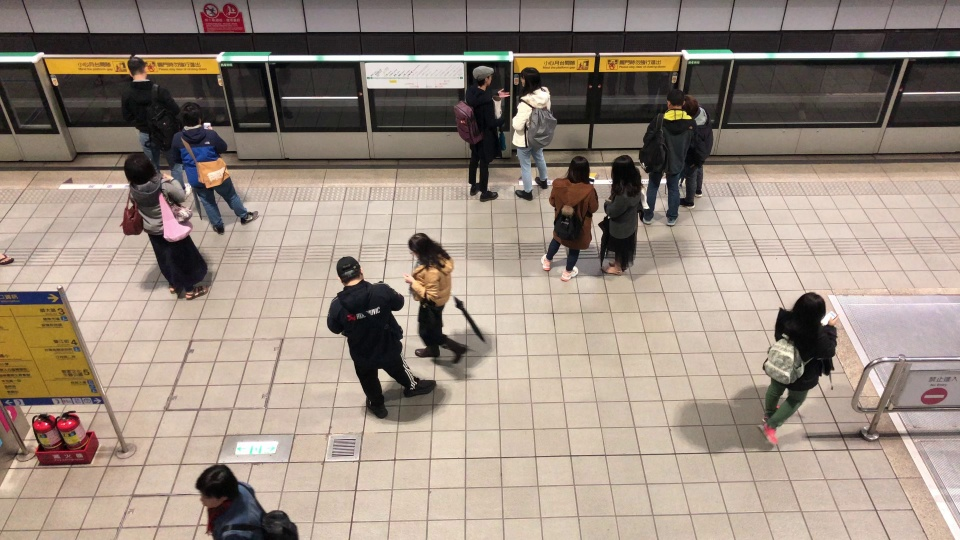person_head: (193, 465, 240, 510), (409, 232, 450, 269), (789, 292, 825, 328), (610, 156, 642, 196), (123, 152, 158, 186), (519, 67, 546, 101), (335, 256, 363, 286), (564, 155, 590, 185), (180, 101, 202, 129), (127, 55, 147, 81), (473, 65, 492, 86), (667, 90, 685, 110), (683, 94, 698, 115)
person_vbox: (327, 255, 437, 418), (123, 152, 209, 302), (758, 291, 840, 448), (167, 102, 259, 234), (121, 56, 192, 200), (401, 233, 468, 366), (540, 155, 599, 281), (642, 88, 693, 225), (464, 65, 510, 202), (510, 66, 551, 200), (193, 465, 264, 540), (600, 154, 642, 275), (679, 94, 713, 211)
